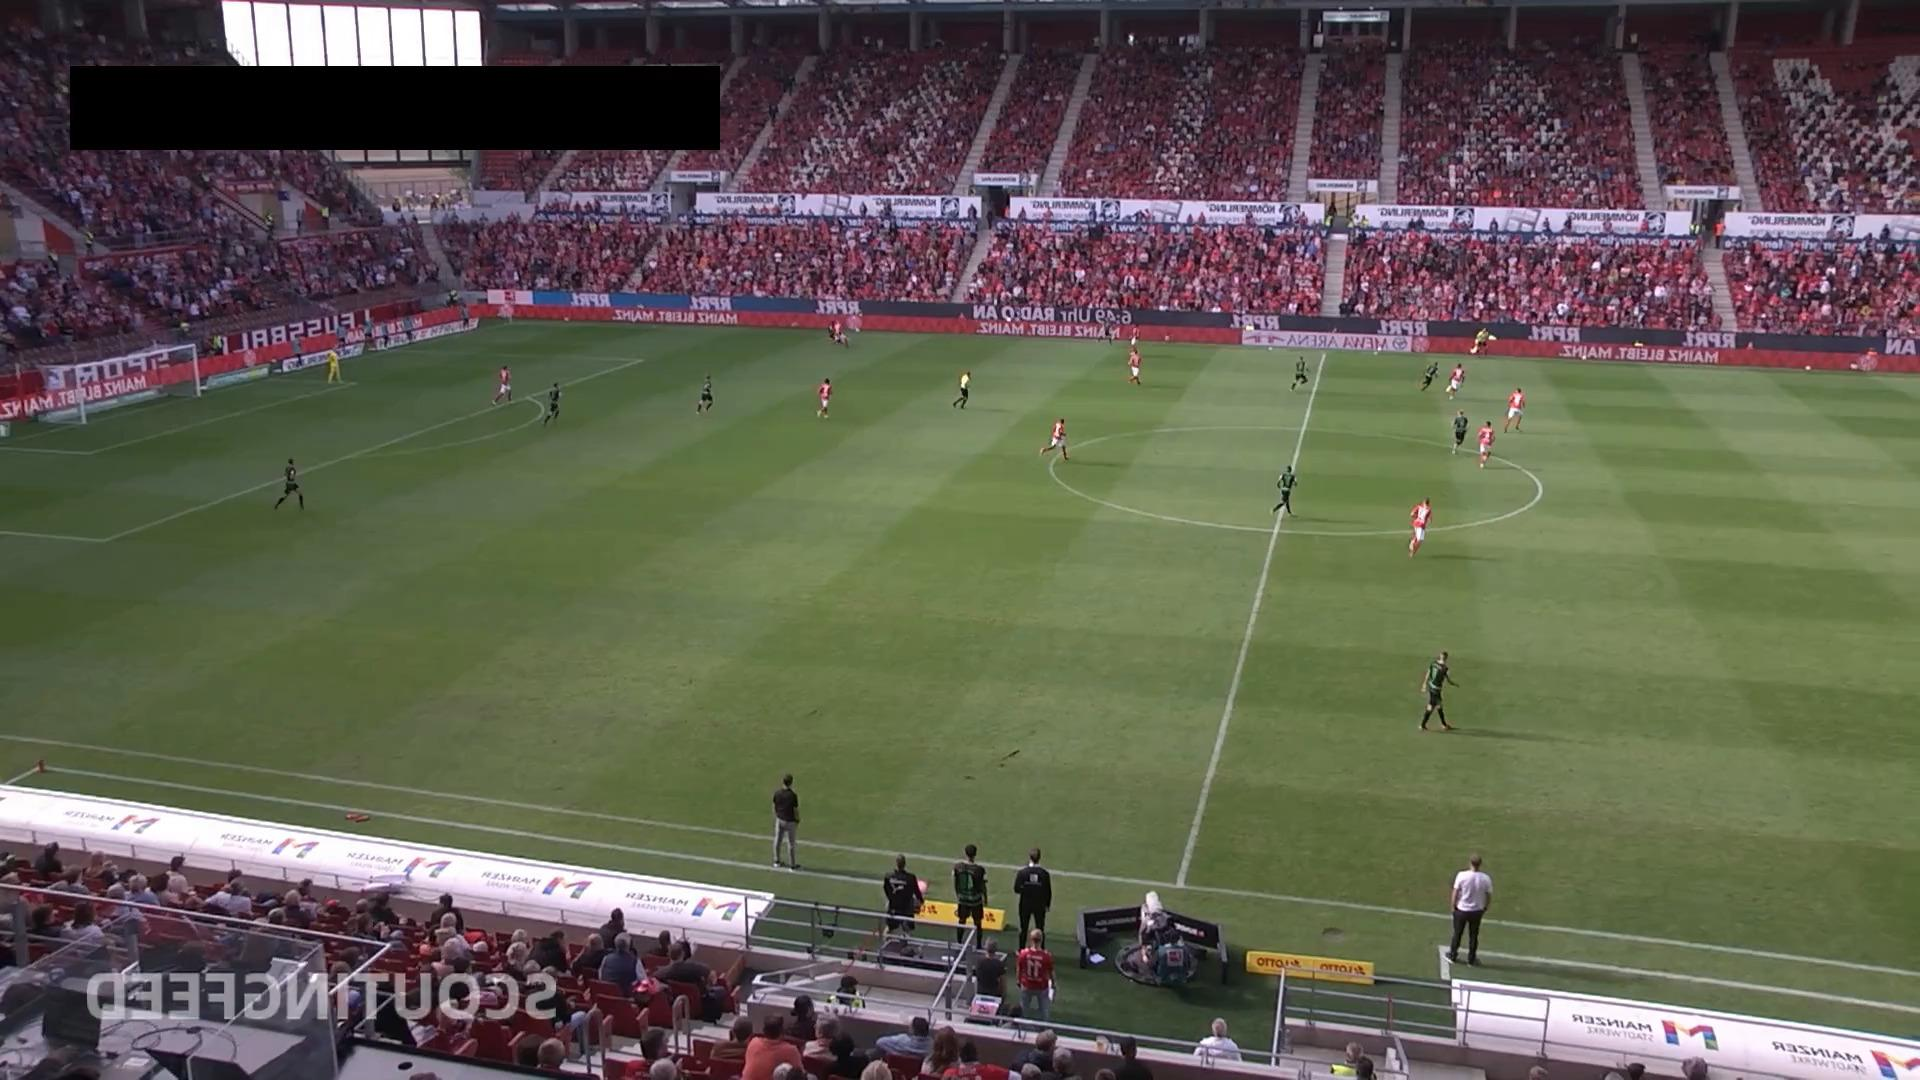keeper: (325, 346, 342, 383)
player: (1418, 650, 1456, 735), (274, 455, 304, 513), (1406, 495, 1433, 558), (1269, 465, 1297, 520), (1038, 416, 1069, 464), (1503, 386, 1525, 432), (541, 380, 563, 425), (1477, 419, 1495, 470), (815, 375, 833, 420), (493, 363, 512, 405), (1445, 361, 1467, 397), (1451, 411, 1468, 454), (1419, 359, 1440, 393), (1290, 355, 1309, 392), (696, 375, 713, 414), (1128, 351, 1141, 385), (1129, 325, 1143, 354), (1098, 316, 1112, 345), (835, 320, 847, 348), (827, 318, 838, 342)
referee: (951, 369, 974, 410), (1472, 327, 1490, 355)
